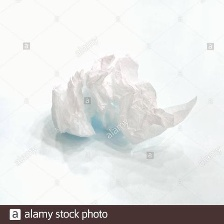tissue: (44, 47, 203, 159)
